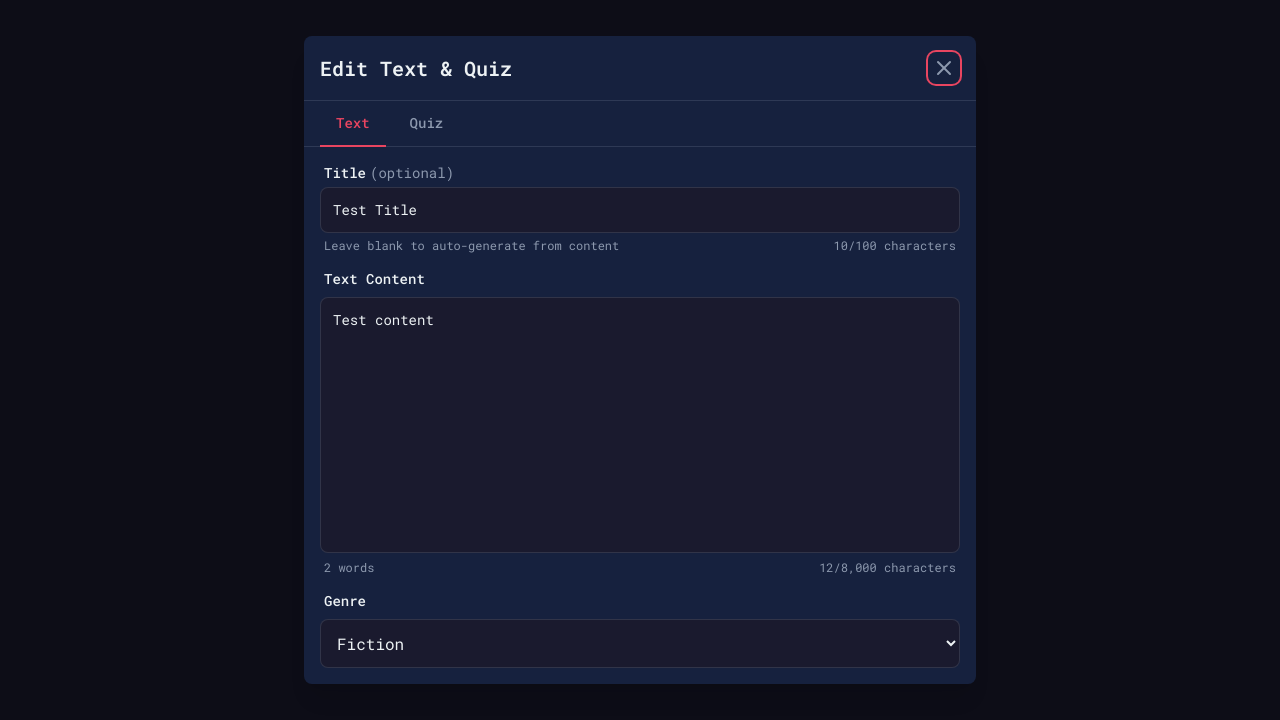
Scenario: EditTextModal tabs › shows unsaved warning when closing with text changes
Replace the text in the text box labelled "Text Content" with "Modified content": (640, 425) [320,297,960,553]
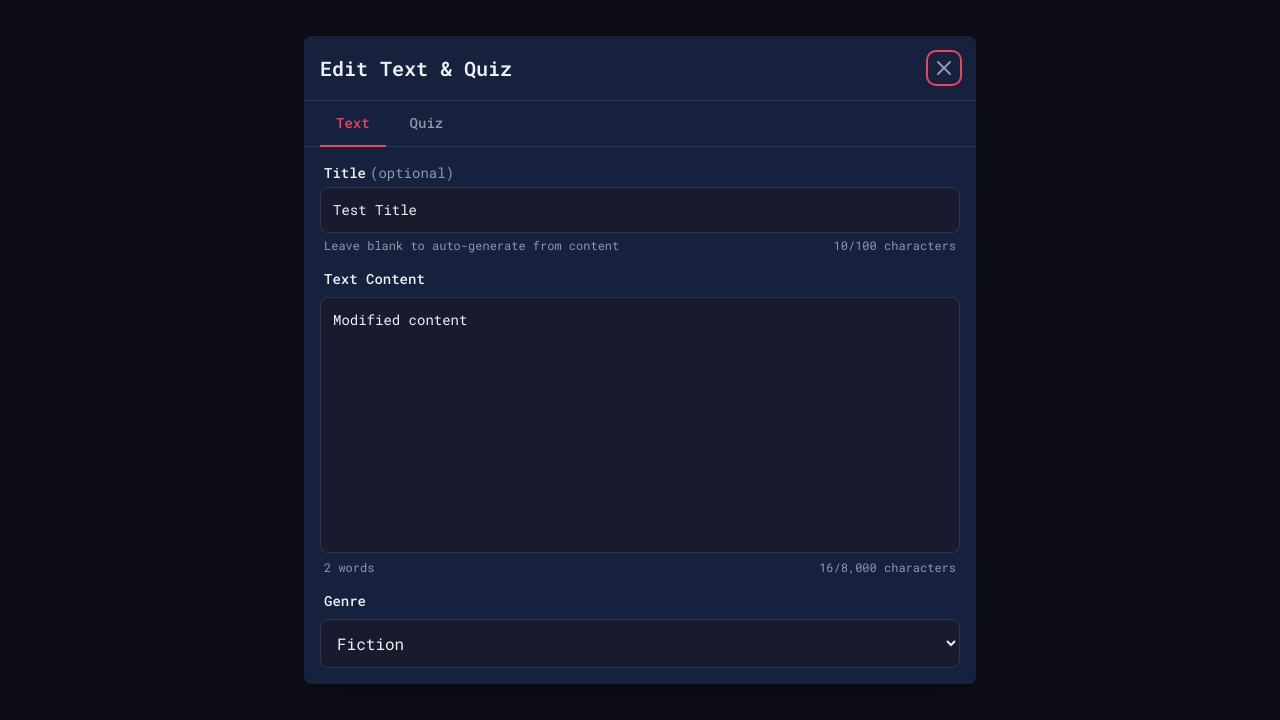
Click the button with test id "edit-modal-close-button": click(944, 68) [928,52,960,84]
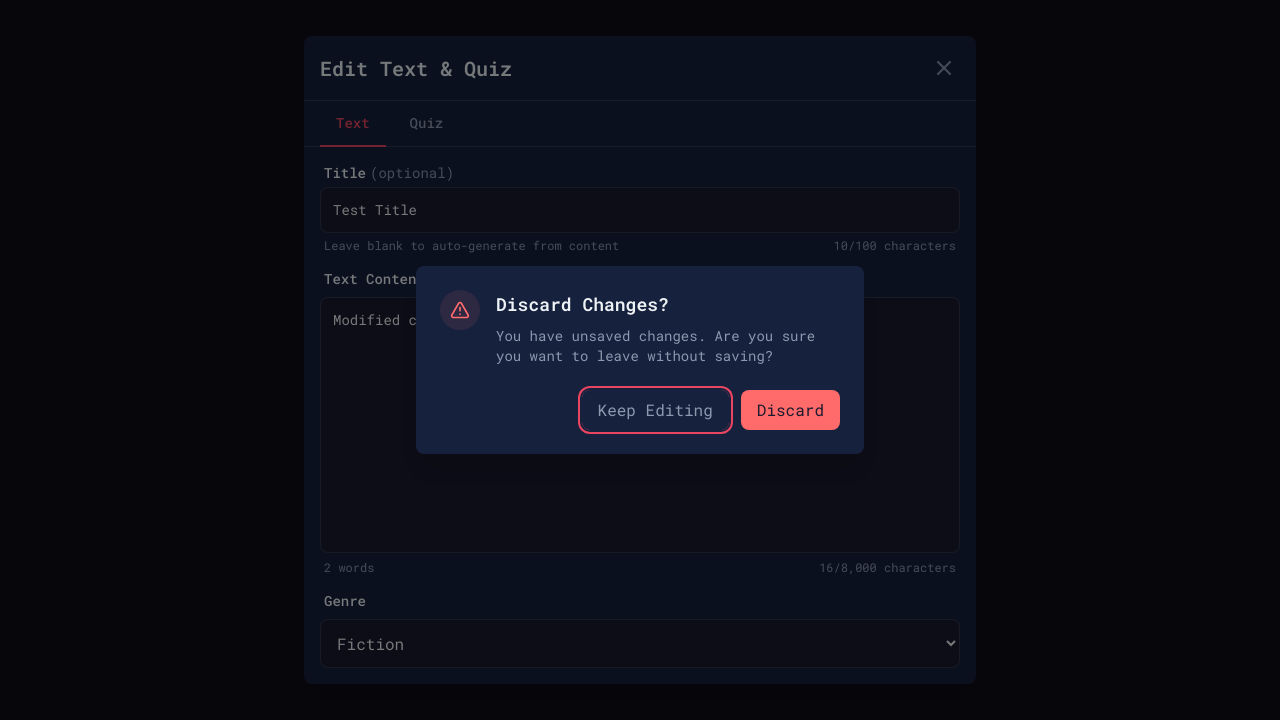
expect the heading "Discard Changes?" is shown: met, box [496,292,669,316]
